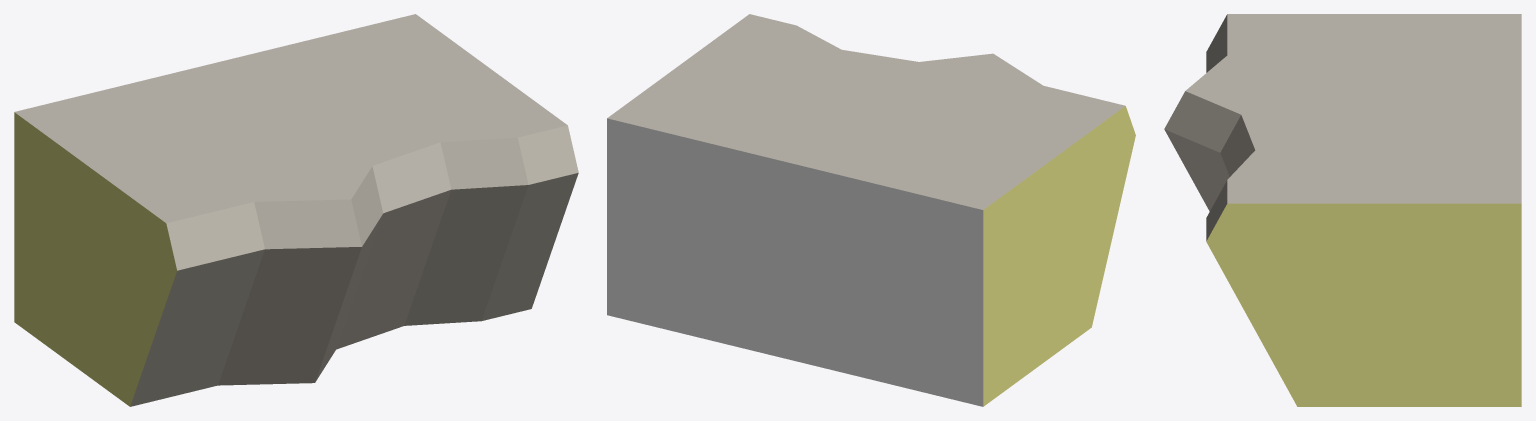
Rendered from Cracked_Straight_2x2_2_Top.glb.
3 views of the same model, side by side, from view 1: azimuth 30°, elevation 25°; view 2: azimuth 150°, elevation 25°; view 3: azimuth 270°, elevation 25° (orthographic). The views are drawn at different scales.
Parts seen in each view (by area): view 1: Cracked_Straight_2x2_2_Top; view 2: Cracked_Straight_2x2_2_Top; view 3: Cracked_Straight_2x2_2_Top.
Boxes of the visible parts, <box> form: Cracked_Straight_2x2_2_Top: <box>14,14,578,406</box>; Cracked_Straight_2x2_2_Top: <box>607,14,1135,406</box>; Cracked_Straight_2x2_2_Top: <box>1164,14,1521,406</box>.
Size of the model in its own units: 200 by 100 by 159.
